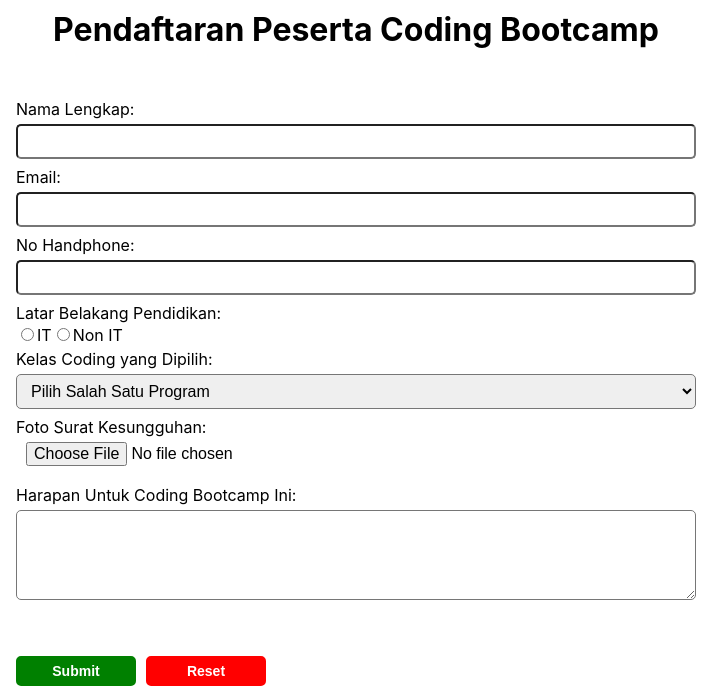
it: FormCoding › Input to show error input for Email with wrong format
In the field labelled "Email:": (356, 210) x1=16 y1=192 x2=696 y2=227, type "iniemail.co"
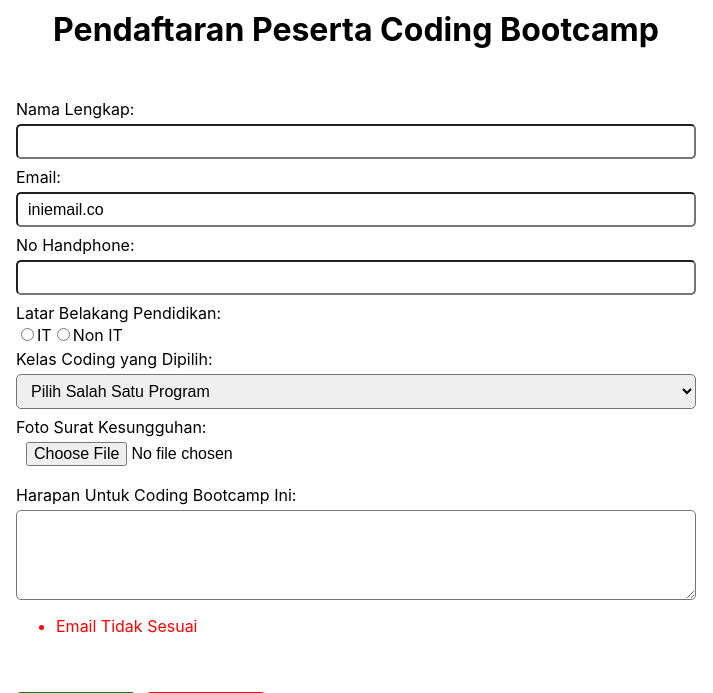
expect the list item "Email Tidak Sesuai" is shown: met, box x1=56 y1=616 x2=198 y2=636
